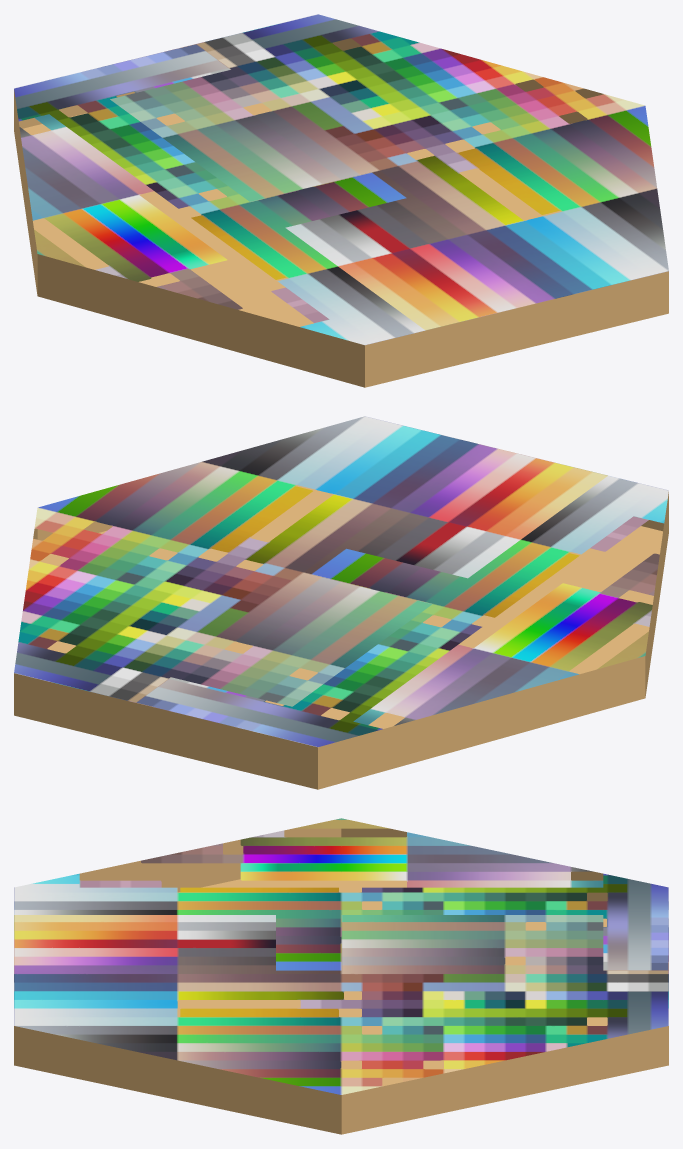
Rendered from Village5.fbx.
The picture shows the model from 3 angles, top to bottom: view 1: azimuth 30°, elevation 25°; view 2: azimuth 150°, elevation 25°; view 3: azimuth 270°, elevation 25°; orthographic projection. The views are drawn at different scales.
Visible parts, largest first — view 1: Village5; view 2: Village5; view 3: Village5.
Boxes of the visible parts, left/top/right/bottom form: Village5: left=14, top=14, right=668, bottom=387; Village5: left=14, top=416, right=668, bottom=789; Village5: left=14, top=818, right=668, bottom=1134.
Bounding box in the file's own units: 1500 × 100 × 1500.
